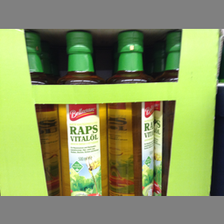oil: (106, 31, 156, 197), (58, 32, 108, 195)
